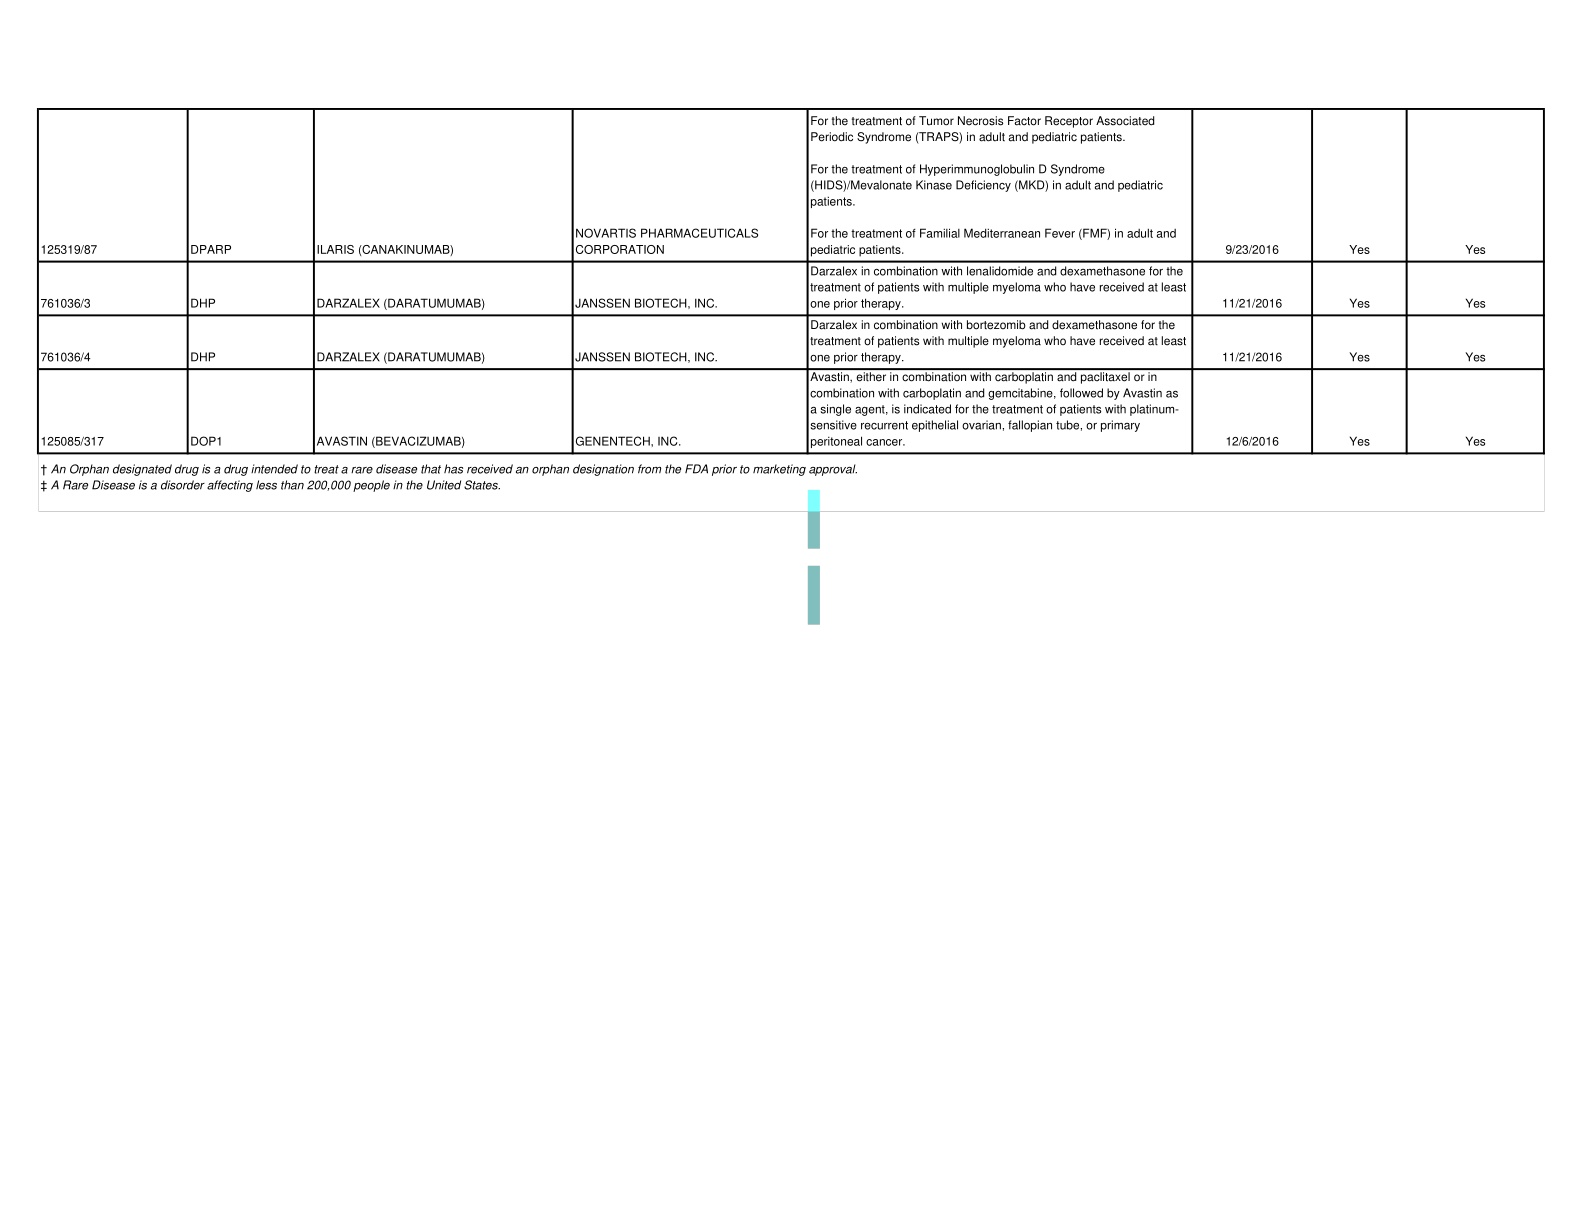full_lined: (36, 108, 1545, 455)
